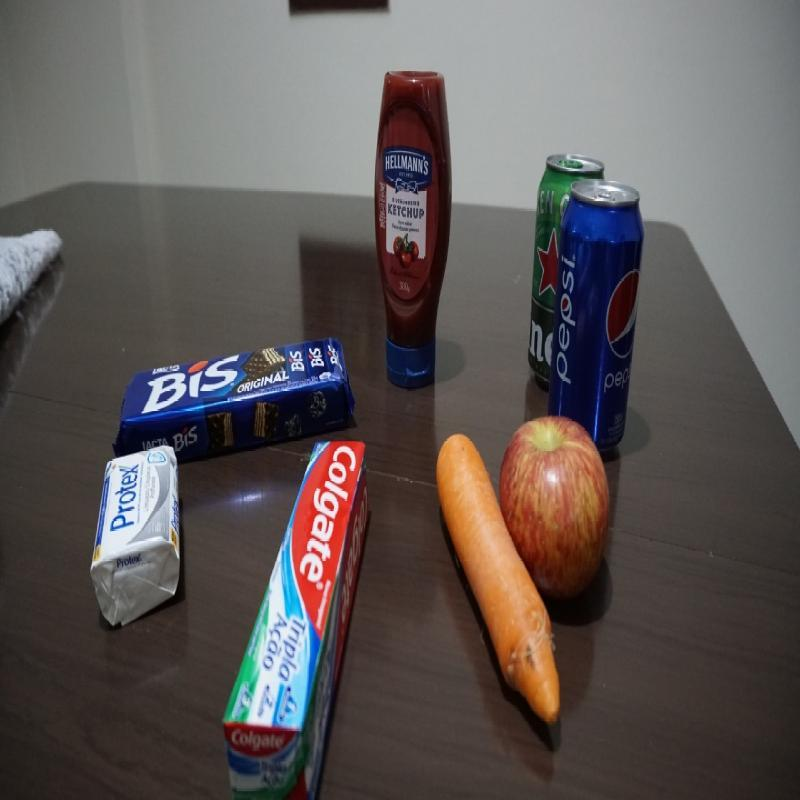Apple: (501, 420, 618, 590)
Beer can: (523, 152, 558, 393)
Carrot: (434, 429, 506, 704)
Ketchup: (372, 67, 451, 376)
Soap: (99, 452, 182, 626)
Soda can: (563, 182, 641, 413)
Toothpaste: (222, 444, 374, 788)
